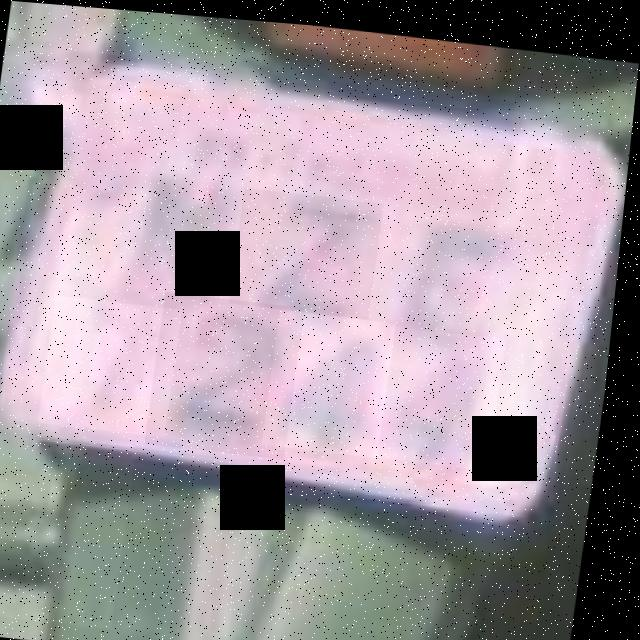2: (154, 288, 312, 454)
3: (0, 429, 146, 627)
4: (270, 304, 402, 451)
5: (381, 318, 512, 462)
7: (46, 293, 188, 434)
B: (105, 146, 239, 305)
Z: (234, 183, 388, 313)
